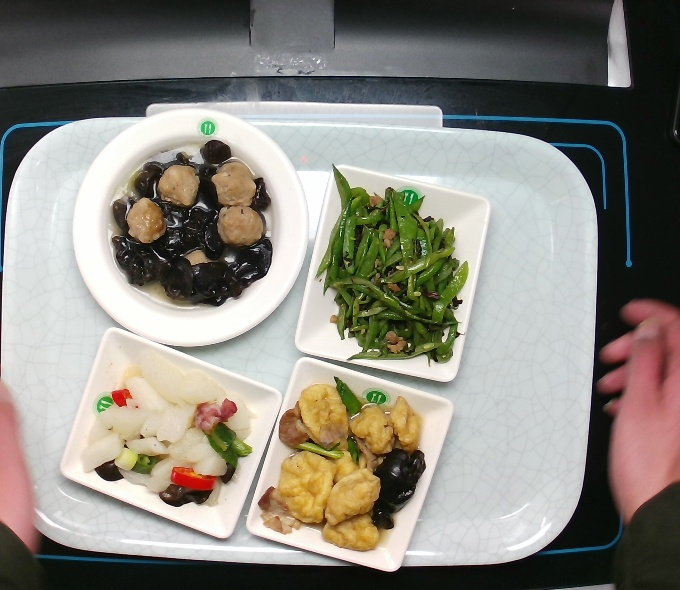wcq-MuErWanZi: (98, 134, 284, 321)
wcq-ShanYao: (70, 342, 263, 514)
wcq-SiJiDouChaoRou: (311, 156, 474, 371)
wcq-YouPaoRouPian: (255, 371, 431, 557)
